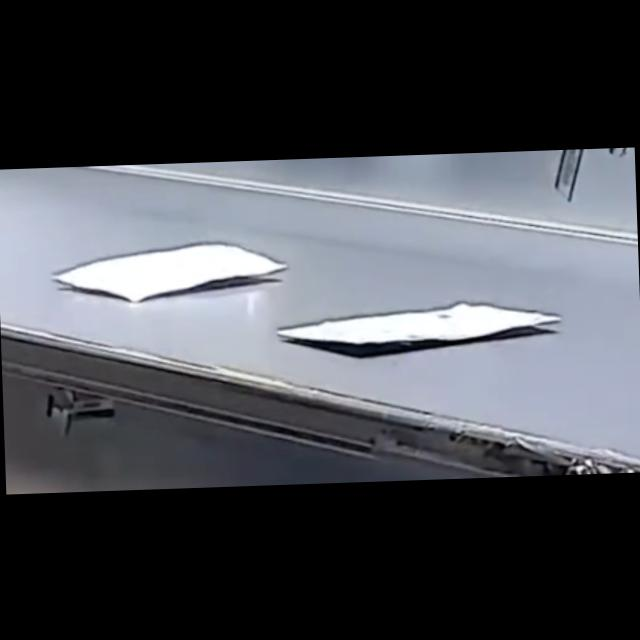mailer: (276, 297, 562, 356), (54, 240, 286, 304)
